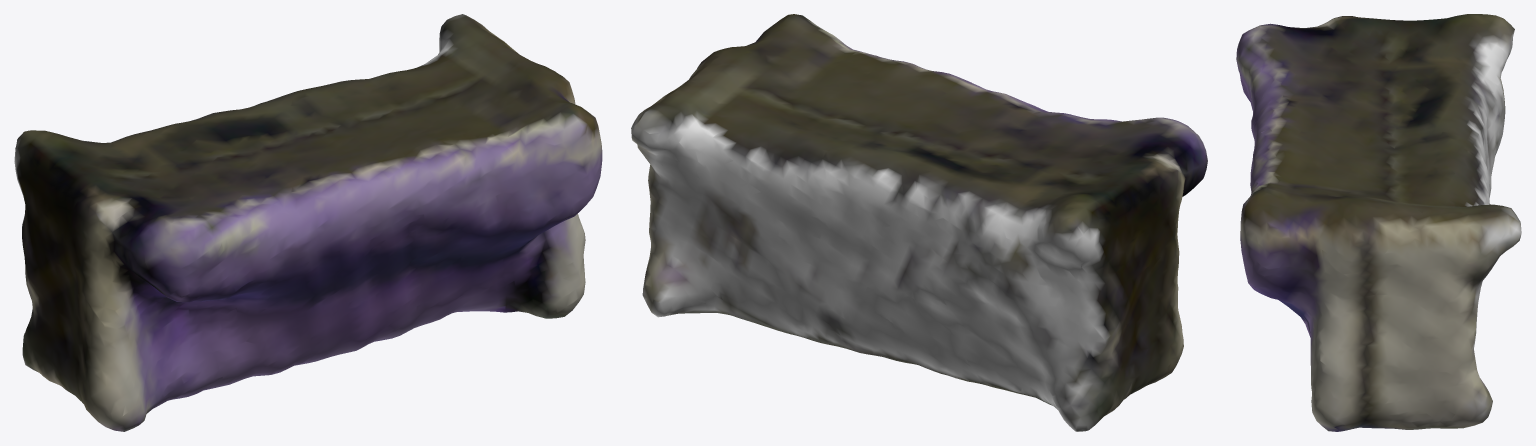
File: sofa.glb
3 renders of one model, left to right at view 1: azimuth 30°, elevation 25°; view 2: azimuth 150°, elevation 25°; view 3: azimuth 270°, elevation 25°, orthographic. The views are drawn at different scales.
Size of the model in its own units: 1 by 0.4972 by 0.5359.
